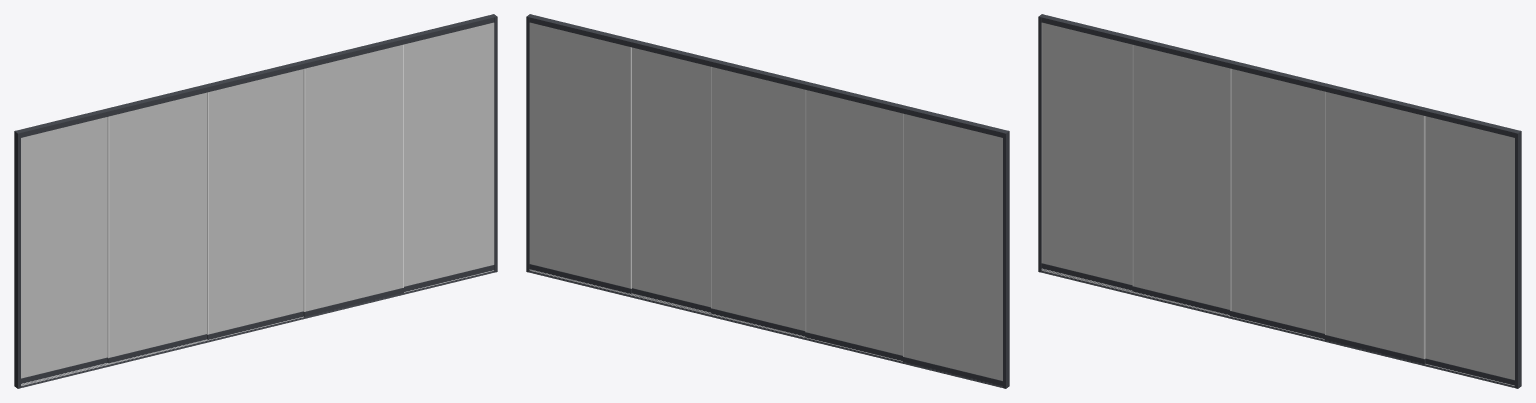
The model's file is nebbiolo_sliding_door_front_500_300.glb.
The picture shows the model from 3 angles, left to right: view 1: azimuth 30°, elevation 25°; view 2: azimuth 150°, elevation 25°; view 3: azimuth 330°, elevation 25°; orthographic projection.
Visible parts, largest first — view 1: sliding_door_front_500_300; view 2: sliding_door_front_500_300; view 3: sliding_door_front_500_300.
Boxes of the visible parts, box(x1,y1,x2,y2) form: sliding_door_front_500_300: box(14, 14, 497, 388); sliding_door_front_500_300: box(526, 14, 1009, 388); sliding_door_front_500_300: box(1038, 14, 1521, 388).
Bounding box in the file's own units: 4.91 × 2.5 × 0.065.
3 materials, 1 textured.
